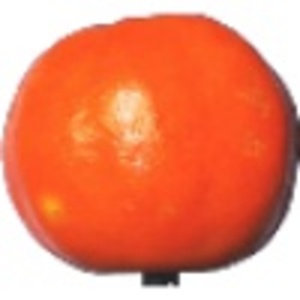tangerina: (2, 11, 300, 287)
